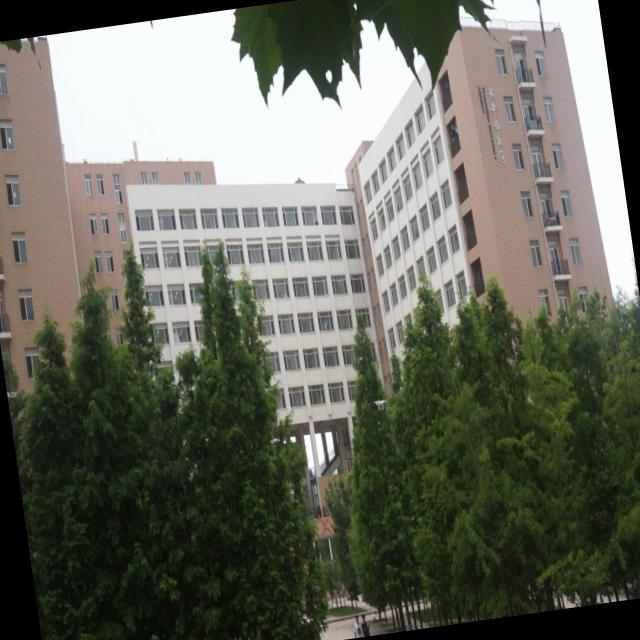drone: (371, 392, 391, 417)
